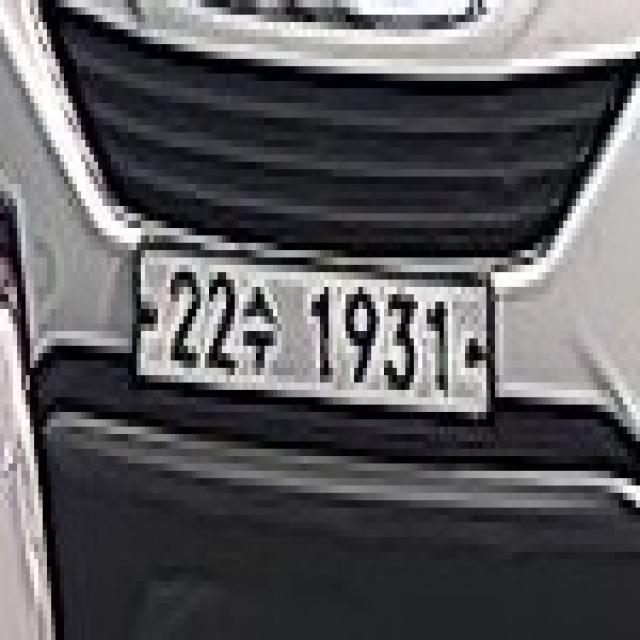1: (303, 281, 340, 387), (428, 294, 459, 395)
2: (164, 263, 203, 371), (204, 262, 239, 375)
3: (385, 284, 423, 392)
9: (341, 286, 380, 387)
license_plate: (138, 245, 487, 413)
su: (243, 278, 284, 376)
